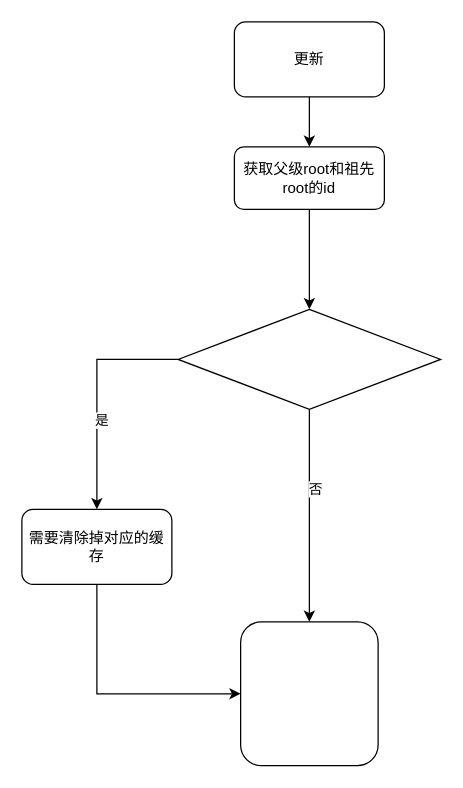
Some shapes in this 463 by 788 pixel diagram are drawn without their labels. The shapes that lost their labels are listed below. From the top down, each one's centre as x and y in pixels, then its label:
the point at 309,358: 判断缓存中是否已有对应root的子分区
the point at 308,693: 新增接口中不做缓存处理，如果下次查询将会直接读取数据库 然后添加到缓存
